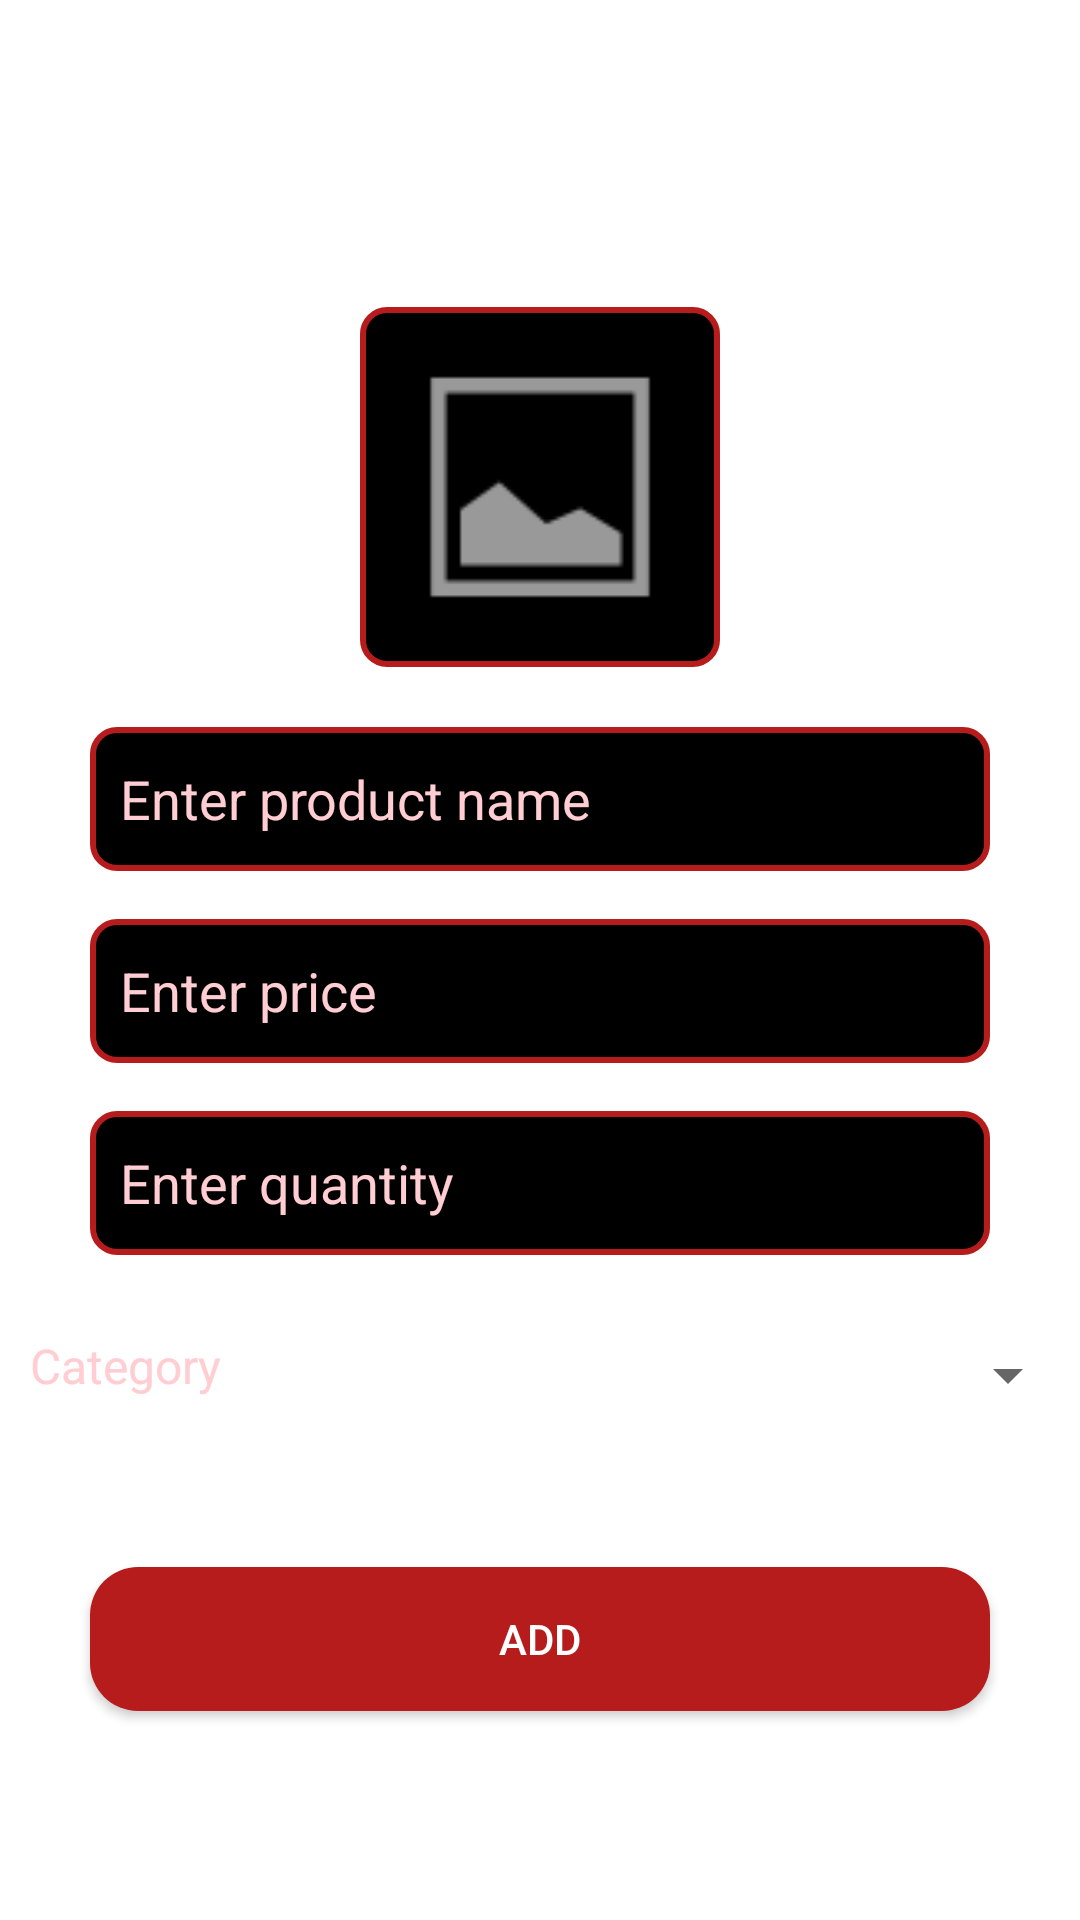

Icons on this 1080x1920 Android screen, each with the point to tap as (x,y):
gallery: (540,487)
